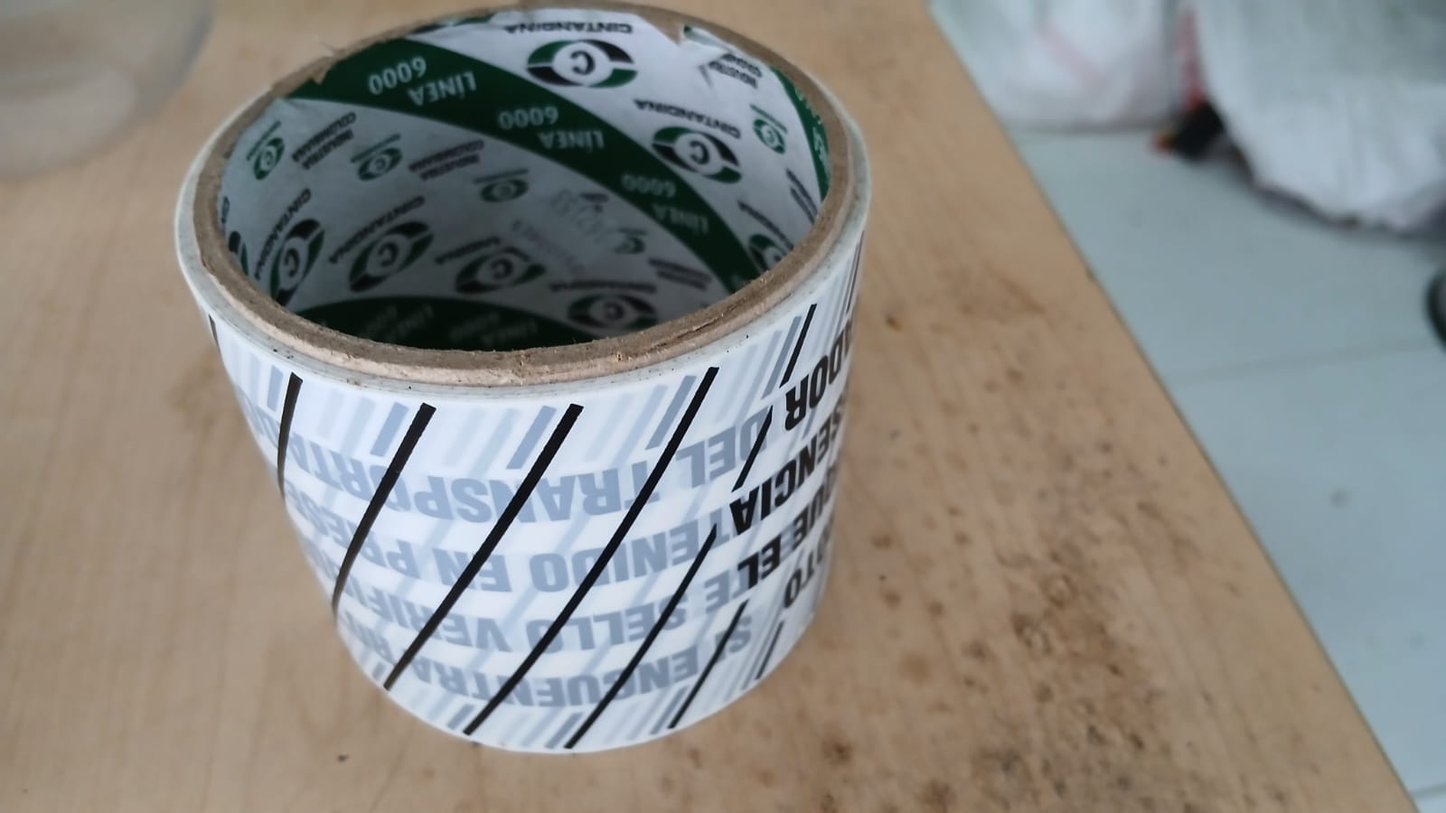Carton: (175, 1, 873, 754)
